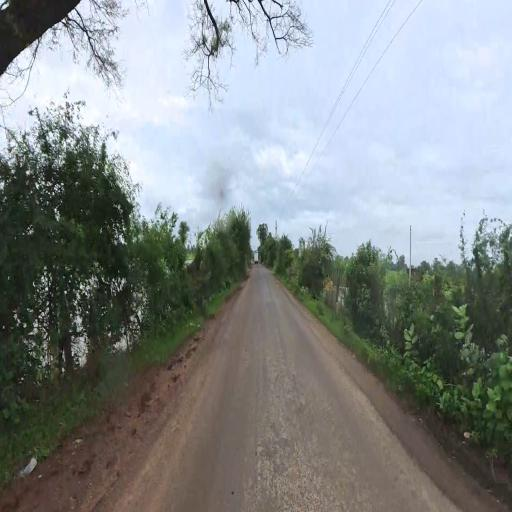ravelling: (260, 365, 352, 512)
